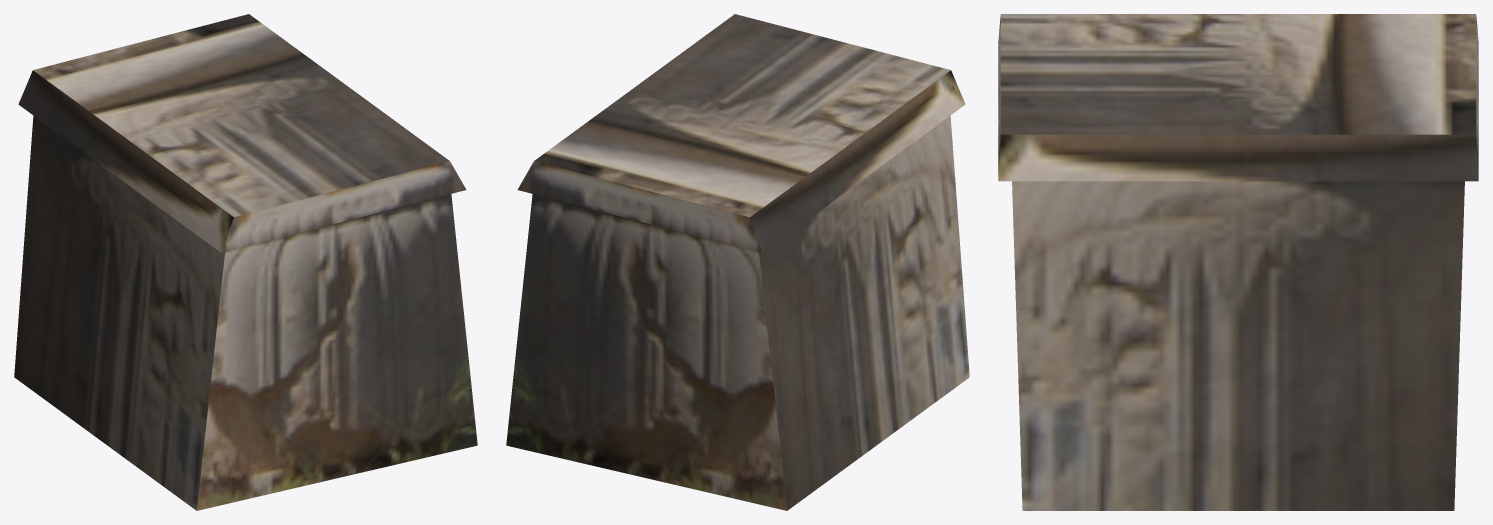
File: RUINSSMALLSTUMP1.obj
3 views of the same model, side by side, from view 1: azimuth 30°, elevation 25°; view 2: azimuth 150°, elevation 25°; view 3: azimuth 270°, elevation 25° (orthographic). The views are drawn at different scales.
Parts seen in each view (by area): view 1: Cube_Cube.001; view 2: Cube_Cube.001; view 3: Cube_Cube.001.
Boxes of the visible parts, x1,y1,x2,y2 form: Cube_Cube.001: [14, 14, 477, 510]; Cube_Cube.001: [506, 14, 969, 510]; Cube_Cube.001: [998, 14, 1478, 510].
Bounding box in the file's own units: 0.5048 × 0.5153 × 0.6322.
